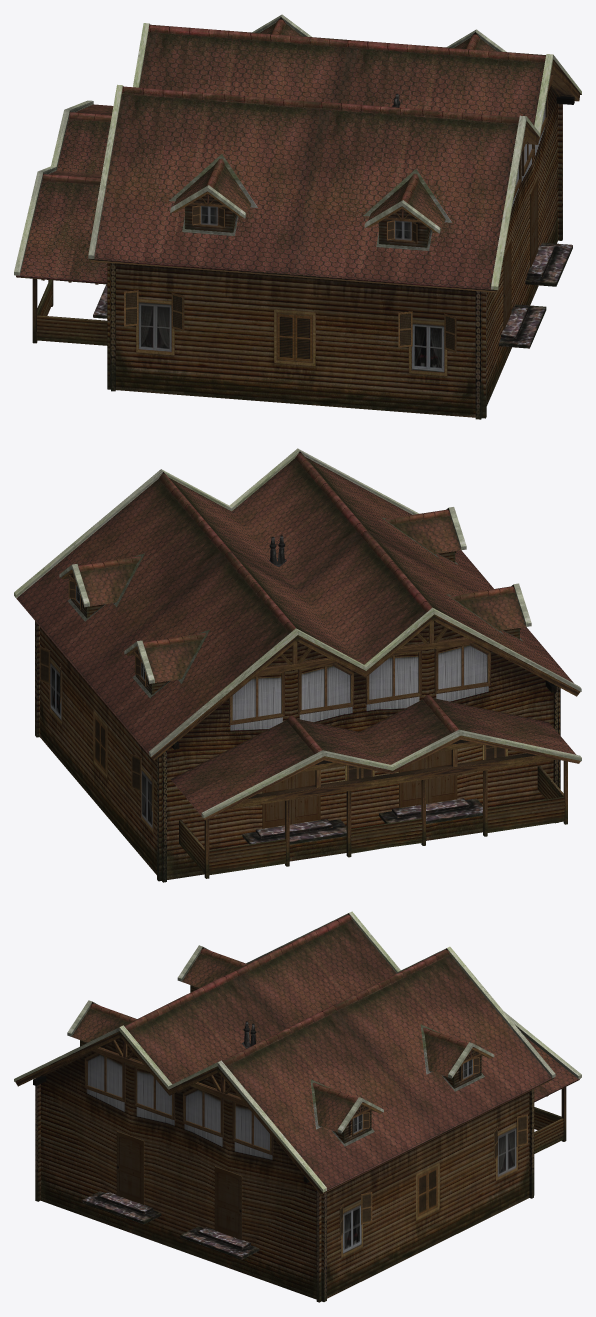
3 renders of one model, top to bottom at view 1: azimuth 30°, elevation 25°; view 2: azimuth 150°, elevation 25°; view 3: azimuth 270°, elevation 25°, orthographic. The views are drawn at different scales.
Visible parts, largest first — view 1: City_building_032; view 2: City_building_032; view 3: City_building_032.
Boxes of the visible parts, <box> form: City_building_032: <box>14,14,581,419</box>; City_building_032: <box>14,448,581,882</box>; City_building_032: <box>14,911,581,1302</box>.
Size of the model in its own units: 2033 by 2013 by 827.
1 material, 1 textured.
